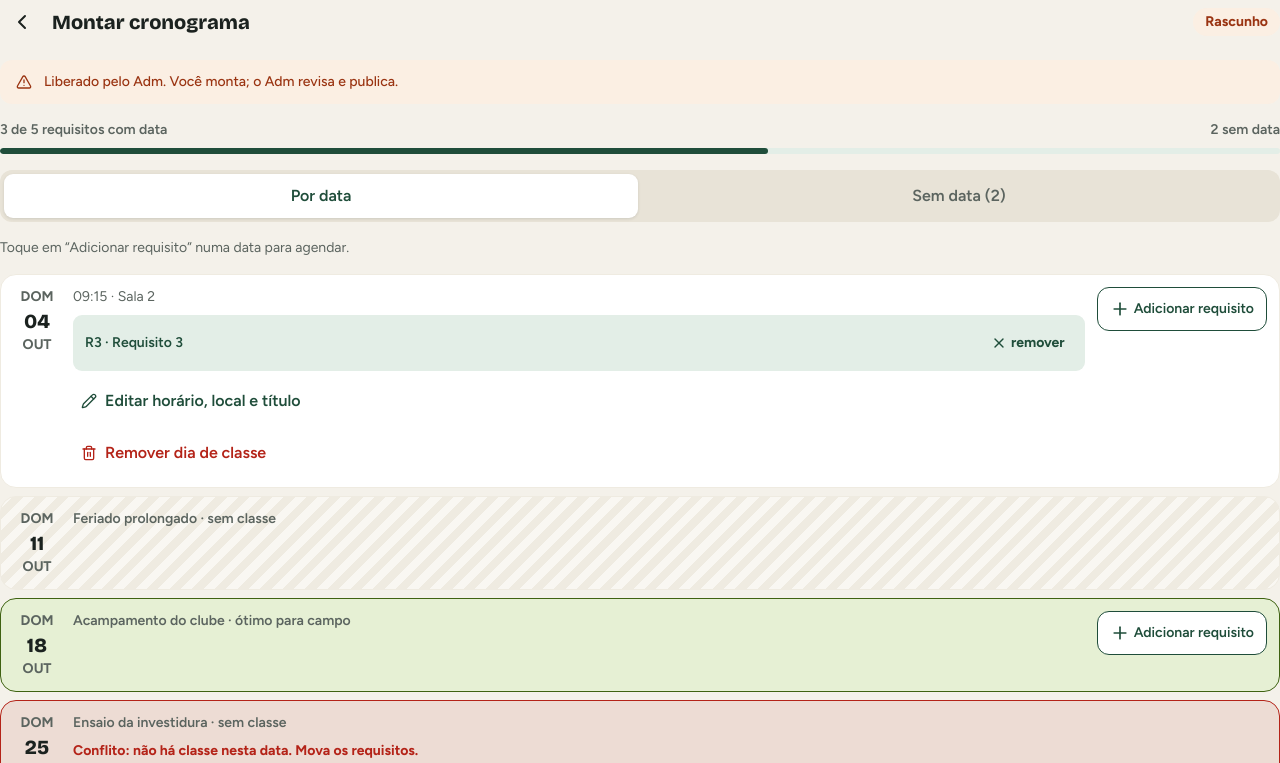
Test: I3b · montar › "+" abre a folha e cada requisito marcado grava com PUT
The width and height of the screenshot is (1280, 763).
Expected: the text "3 de 5 requisitos com data" is shown, x1=0 y1=120 x2=167 y2=140
Click the button with aria-label "Adicionar requisito nesta data": (1182, 309) x1=1097 y1=287 x2=1267 y2=331
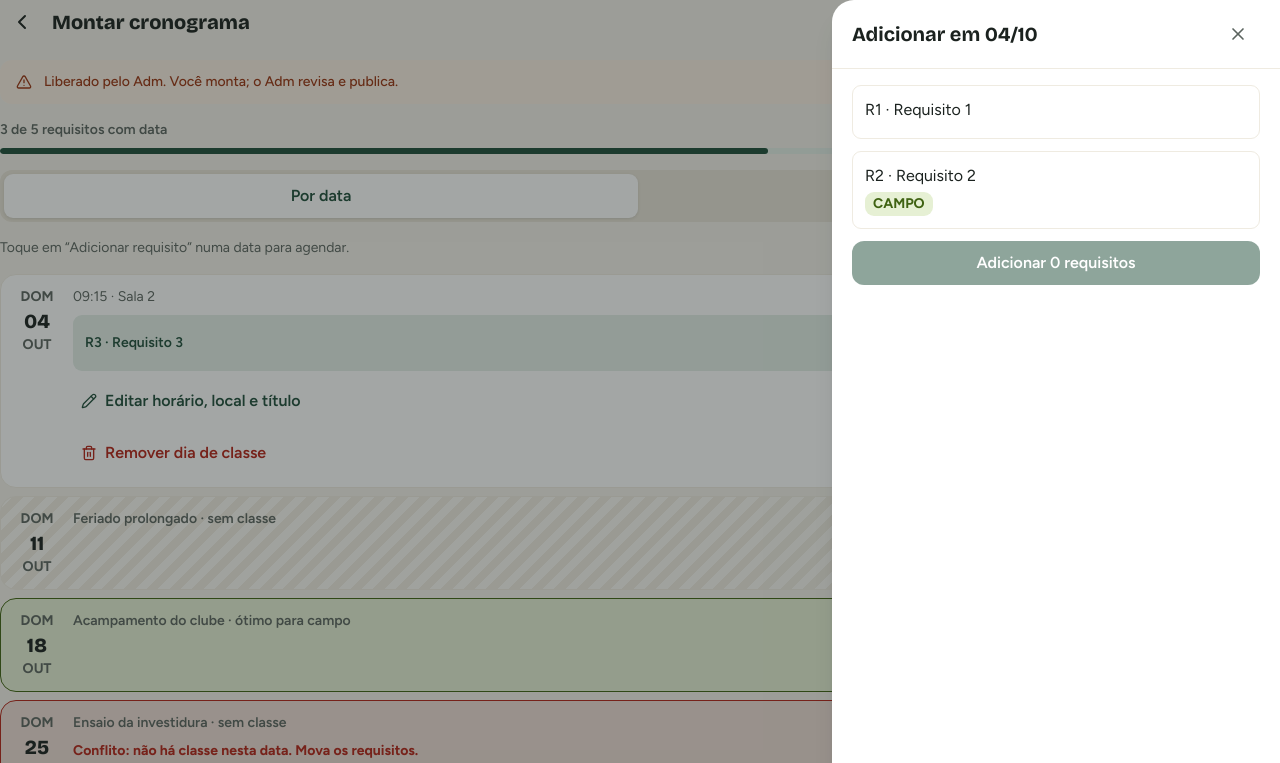
Click the button "R1 · Requisito 1": (932, 110) x1=852 y1=85 x2=1260 y2=139
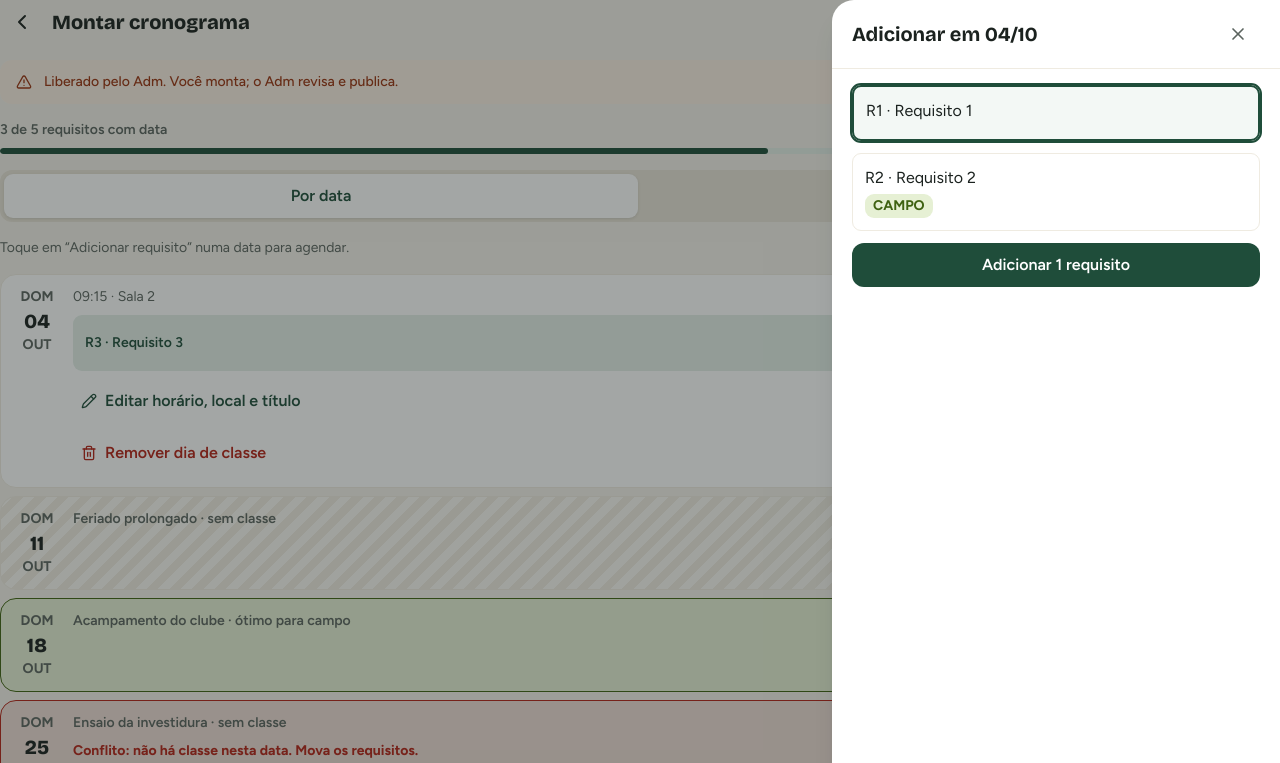
Click the button "R2 · Requisito 2 CAMPO": (936, 178) x1=852 y1=153 x2=1260 y2=231
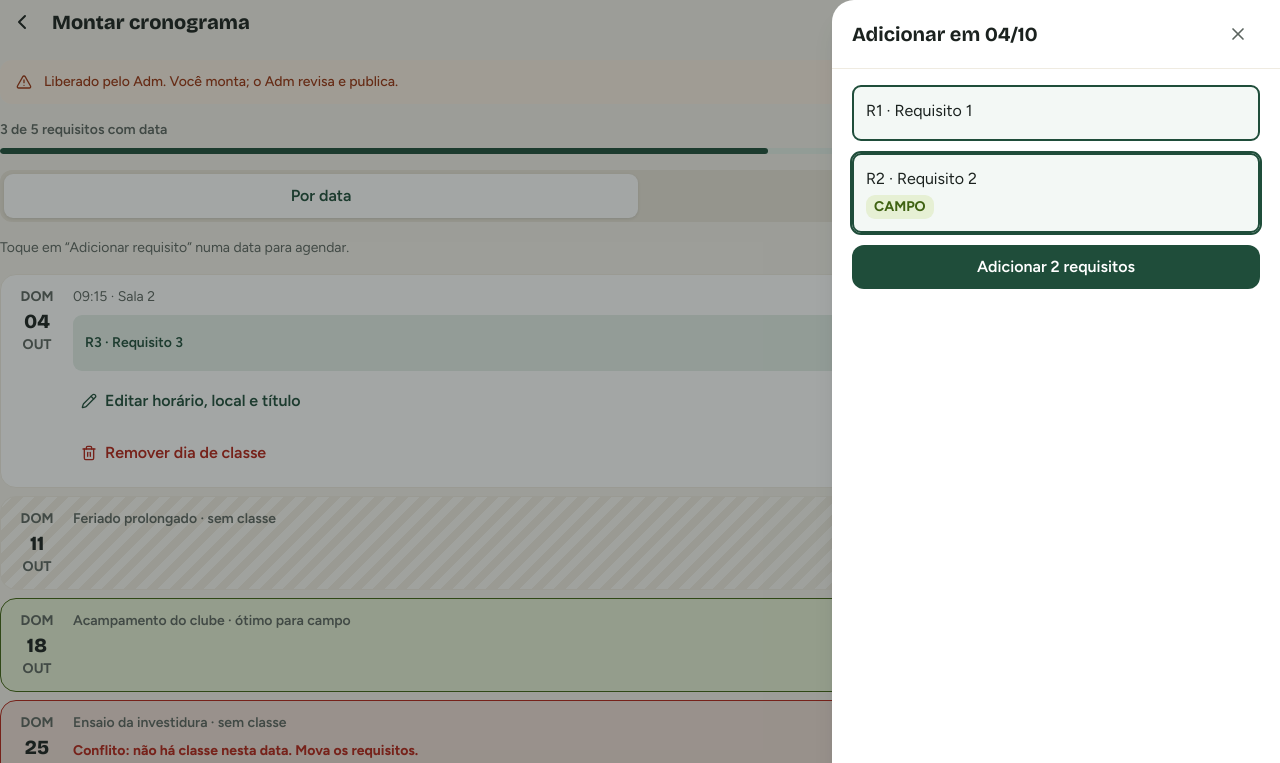
Click the button "Adicionar 2 requisitos": (1056, 267) x1=852 y1=245 x2=1260 y2=289
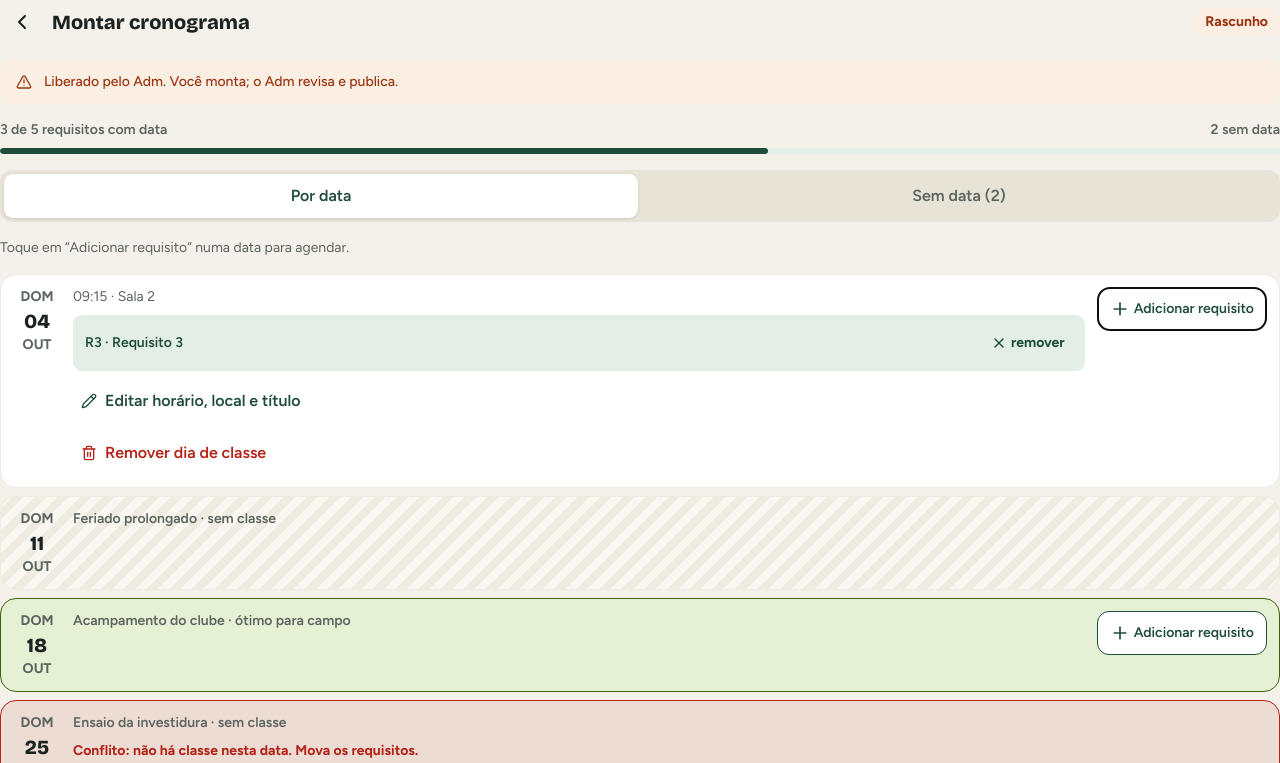
Expected: the heading "Adicionar em" is gone
